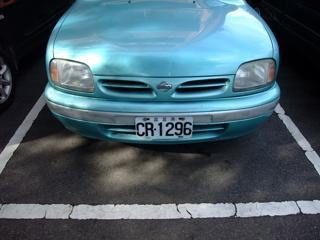plate: (133, 114, 194, 140)
